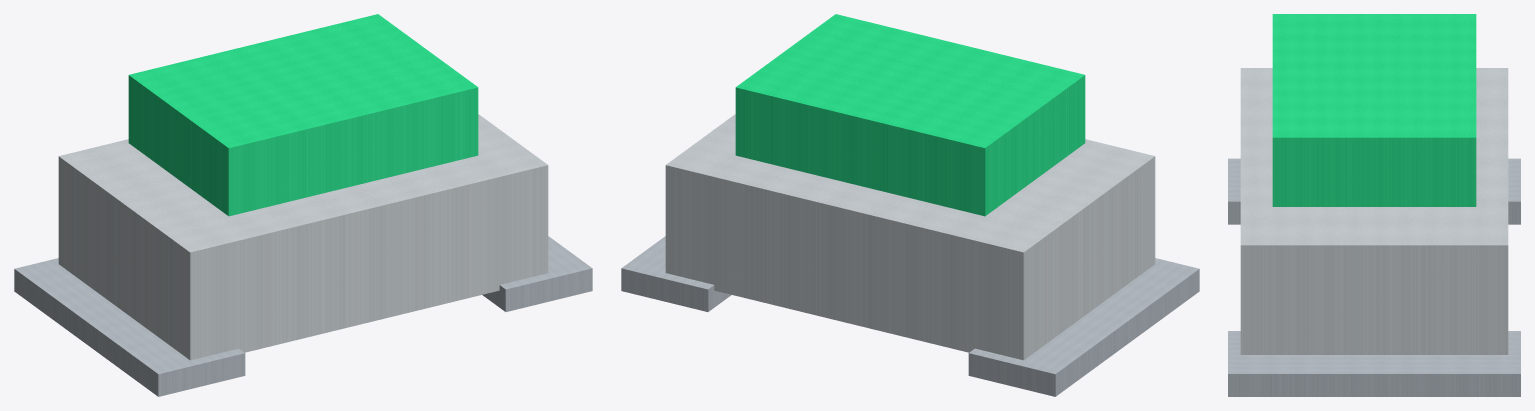
The model's file is 199_L117_LED3.obj.
The picture shows the model from 3 angles, left to right: view 1: azimuth 30°, elevation 25°; view 2: azimuth 150°, elevation 25°; view 3: azimuth 270°, elevation 25°; orthographic projection.
Visible parts, largest first — view 1: 000_Connector_White__PSMAT__Connector_White, 001_LED_Emerald__PSMAT__LED_Emerald, 002_Solder_Tin__PSMAT__Solder_Tin, 003_Solder_Tin__PSMAT__Solder_Tin; view 2: 000_Connector_White__PSMAT__Connector_White, 001_LED_Emerald__PSMAT__LED_Emerald, 002_Solder_Tin__PSMAT__Solder_Tin, 003_Solder_Tin__PSMAT__Solder_Tin; view 3: 000_Connector_White__PSMAT__Connector_White, 001_LED_Emerald__PSMAT__LED_Emerald, 003_Solder_Tin__PSMAT__Solder_Tin, 002_Solder_Tin__PSMAT__Solder_Tin.
Boxes of the visible parts, <box> form: 000_Connector_White__PSMAT__Connector_White: <box>58,114,548,360</box>; 001_LED_Emerald__PSMAT__LED_Emerald: <box>128,14,478,216</box>; 002_Solder_Tin__PSMAT__Solder_Tin: <box>14,258,245,396</box>; 003_Solder_Tin__PSMAT__Solder_Tin: <box>482,236,592,311</box>; 000_Connector_White__PSMAT__Connector_White: <box>665,114,1155,360</box>; 001_LED_Emerald__PSMAT__LED_Emerald: <box>735,14,1085,216</box>; 002_Solder_Tin__PSMAT__Solder_Tin: <box>968,258,1199,396</box>; 003_Solder_Tin__PSMAT__Solder_Tin: <box>621,236,731,311</box>; 000_Connector_White__PSMAT__Connector_White: <box>1240,68,1508,354</box>; 001_LED_Emerald__PSMAT__LED_Emerald: <box>1272,14,1476,206</box>; 003_Solder_Tin__PSMAT__Solder_Tin: <box>1228,331,1520,396</box>; 002_Solder_Tin__PSMAT__Solder_Tin: <box>1228,158,1520,224</box>.
Size of the model in its own units: 0.004 by 0.00185 by 0.0023.
3 materials, 3 textured.
